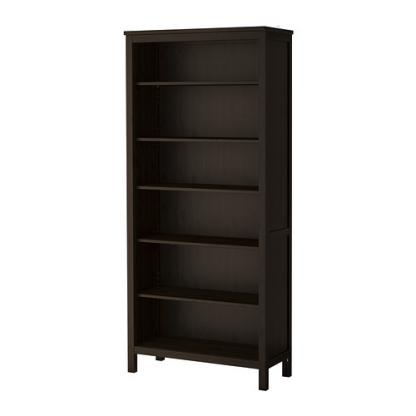Cabinet: (123, 23, 294, 396)
